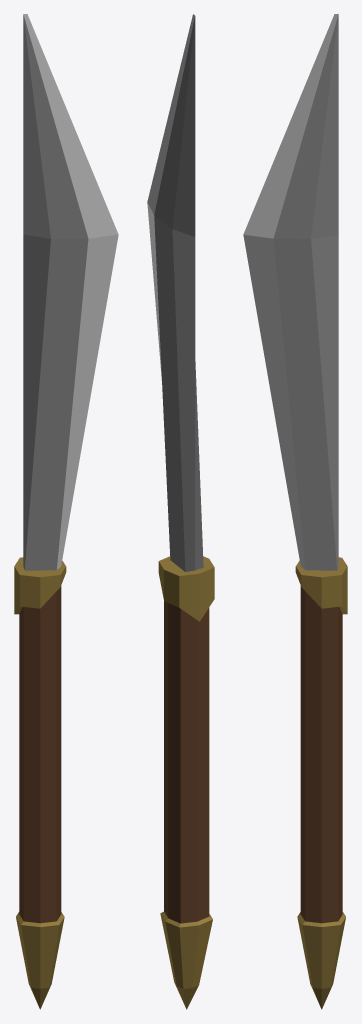
File: SalvagedBlade.fbx
The picture shows the model from 3 angles, left to right: view 1: azimuth 90°, elevation 25°; view 2: azimuth 210°, elevation 25°; view 3: azimuth 270°, elevation 25°; orthographic projection.
Visible parts, largest first — view 1: SalvagedBlade; view 2: SalvagedBlade; view 3: SalvagedBlade.
Part boxes in pixels (x1,y1,x2,y2): SalvagedBlade: [14, 14, 118, 1009]; SalvagedBlade: [147, 14, 214, 1009]; SalvagedBlade: [243, 14, 347, 1009].
Bounding box in the file's own units: 0.036 × 0.7623 × 0.0724.
